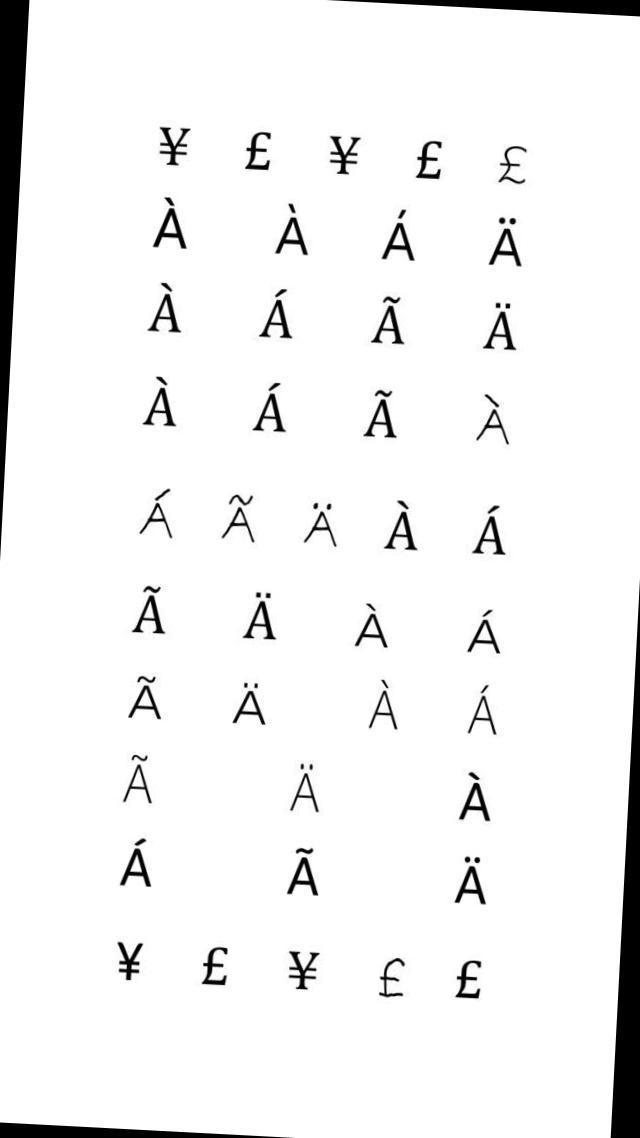ASCII: (470, 380, 520, 458), (248, 372, 296, 451), (379, 488, 426, 568), (139, 365, 184, 443), (468, 492, 512, 571), (358, 378, 403, 455), (215, 481, 263, 553), (136, 477, 182, 547), (240, 579, 284, 652), (368, 286, 413, 357), (256, 280, 301, 351), (298, 489, 344, 558), (280, 840, 326, 908), (144, 274, 188, 345), (284, 750, 327, 822), (270, 196, 314, 266), (378, 202, 422, 272), (480, 293, 523, 364), (450, 846, 493, 916), (228, 671, 272, 739), (363, 675, 405, 746), (118, 744, 160, 814), (129, 577, 172, 645), (150, 192, 193, 260), (455, 764, 498, 832), (464, 680, 506, 749), (283, 938, 326, 1004), (485, 210, 528, 276), (324, 122, 368, 186), (125, 668, 169, 732), (350, 594, 392, 660), (116, 834, 158, 899), (464, 599, 506, 664), (196, 937, 237, 1003), (451, 948, 492, 1013), (154, 113, 197, 174), (372, 951, 411, 1013), (112, 929, 150, 992), (239, 120, 278, 180), (494, 135, 534, 191), (411, 130, 448, 188)
